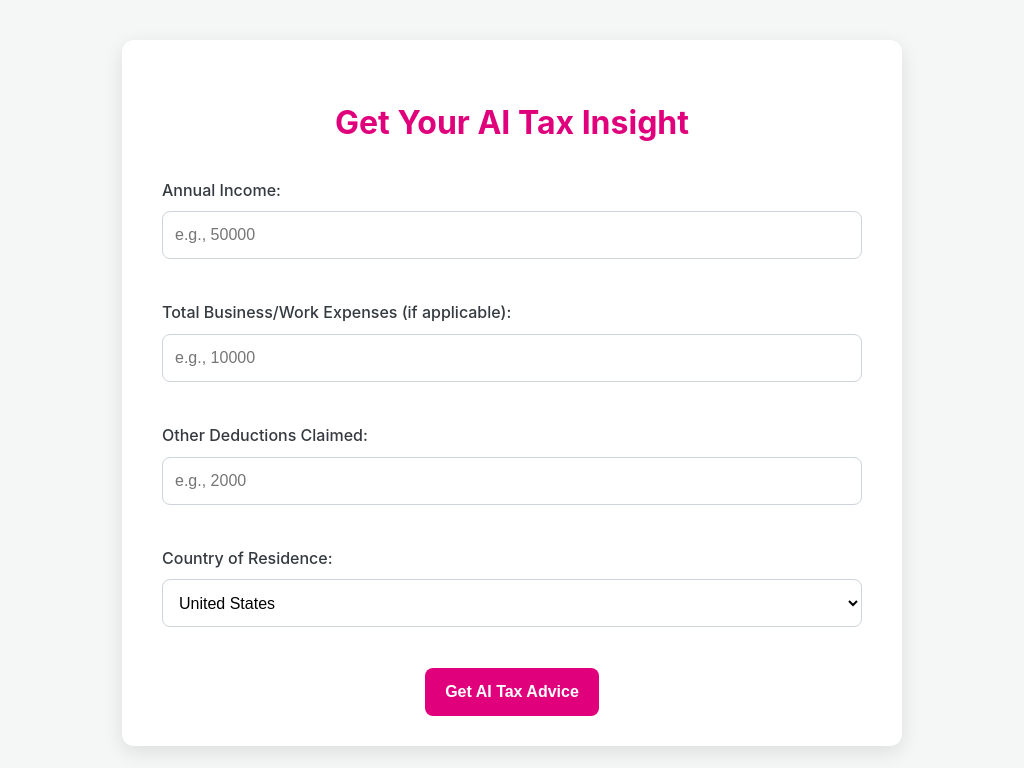
Test case: TaxForm Component › defaults deductions to 0 if empty and submits form correctly
In the number field labelled "Annual Income:": (512, 235) [162,211,862,259], type "75000"
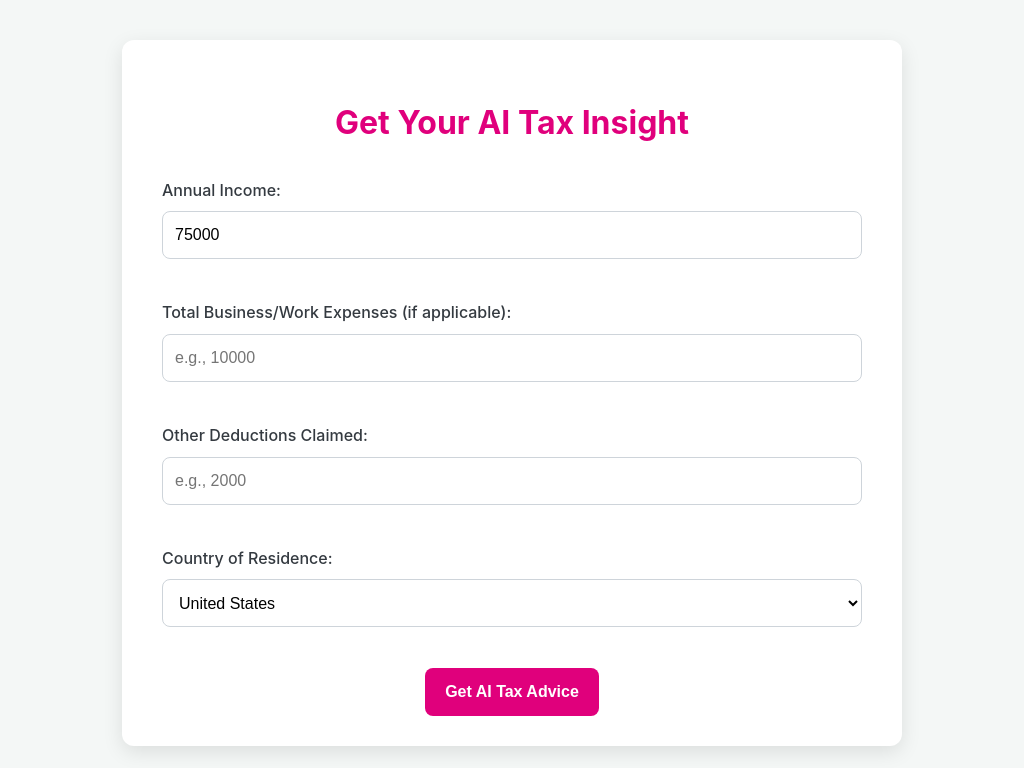
In the number field labelled "Total Business/Work Expenses (if applicable):": (512, 358) [162,334,862,382], type "10500"
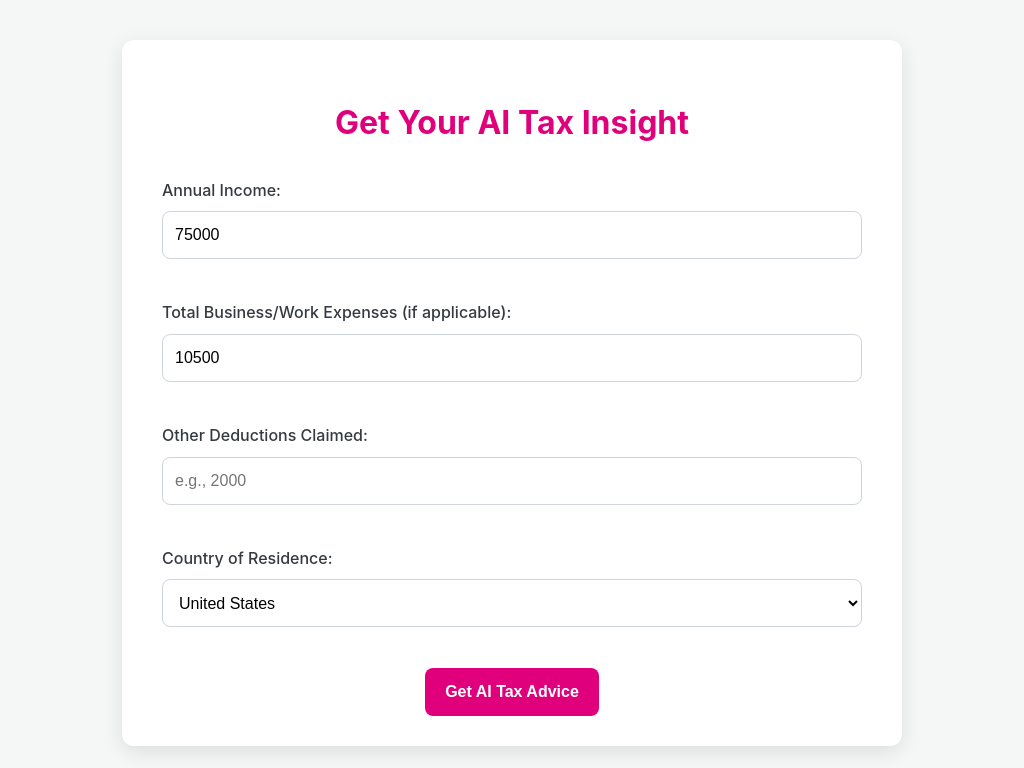
Select "United States" in the dropdown labelled "Country of Residence:": (512, 603) [162,579,862,627]
Click the button "Get AI Tax Advice": (512, 692) [425,668,599,716]
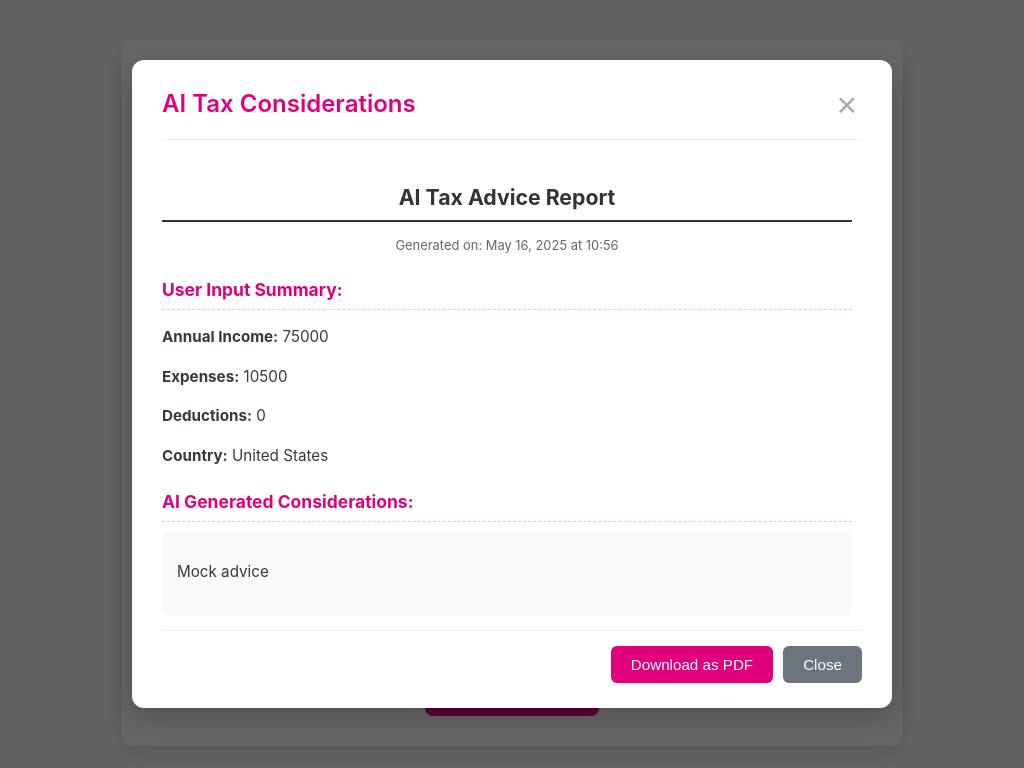
Expected: the text "Mock advice" is shown, [177,562,269,581]
